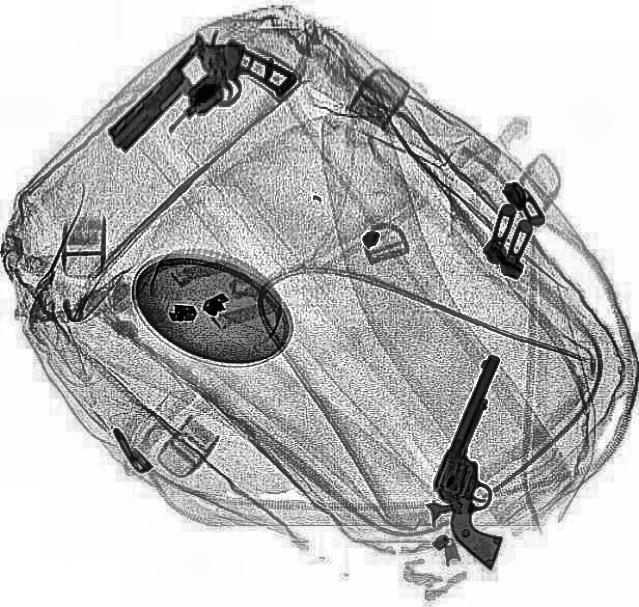Gun: (94, 11, 300, 194), (407, 353, 572, 571)
